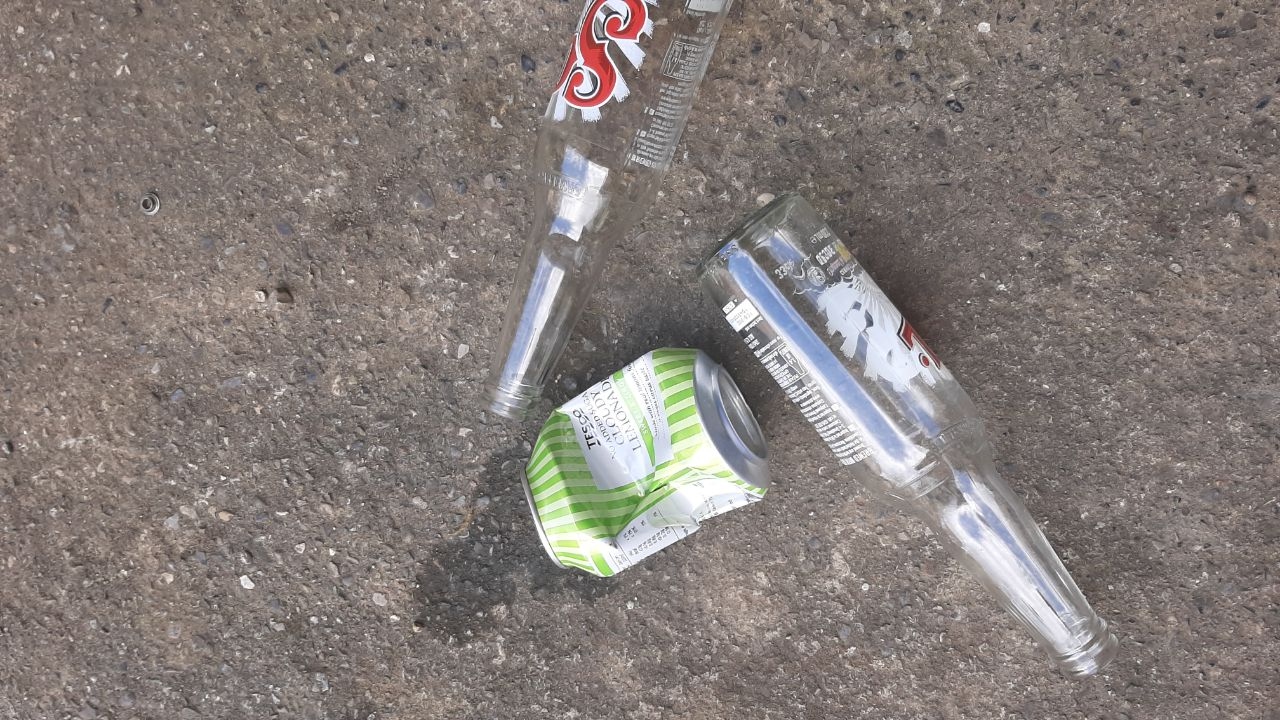Can: (513, 333, 785, 585)
